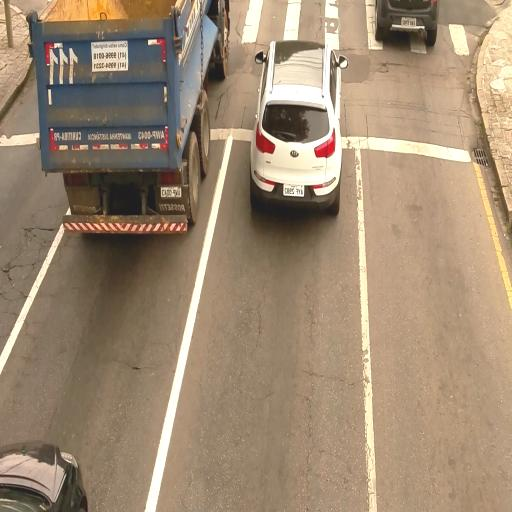car: (251, 39, 348, 217), (2, 442, 90, 511), (374, 1, 440, 47)
others: (31, 0, 231, 232)
